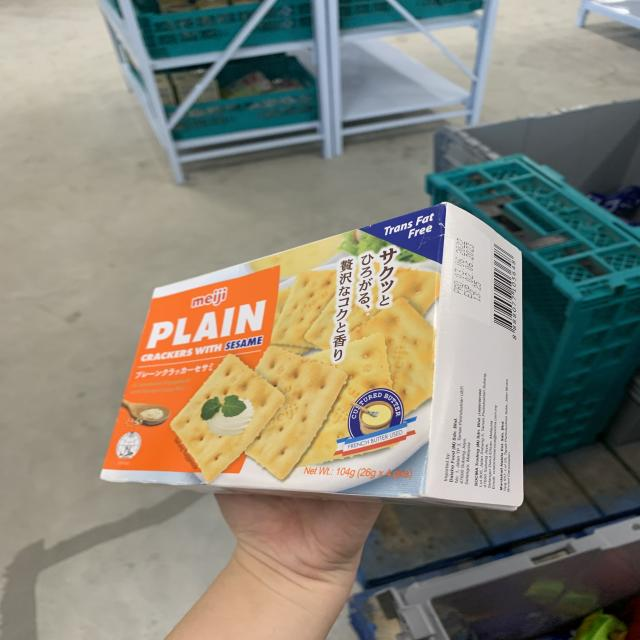object_name: (144, 273, 502, 503)
